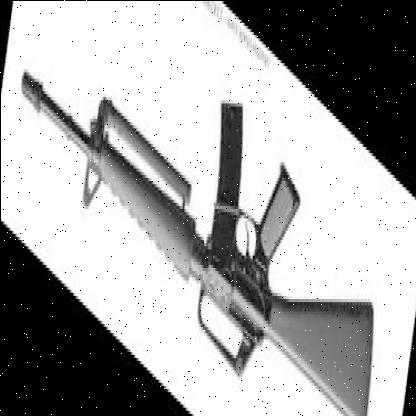rifle: (15, 0, 388, 416)
